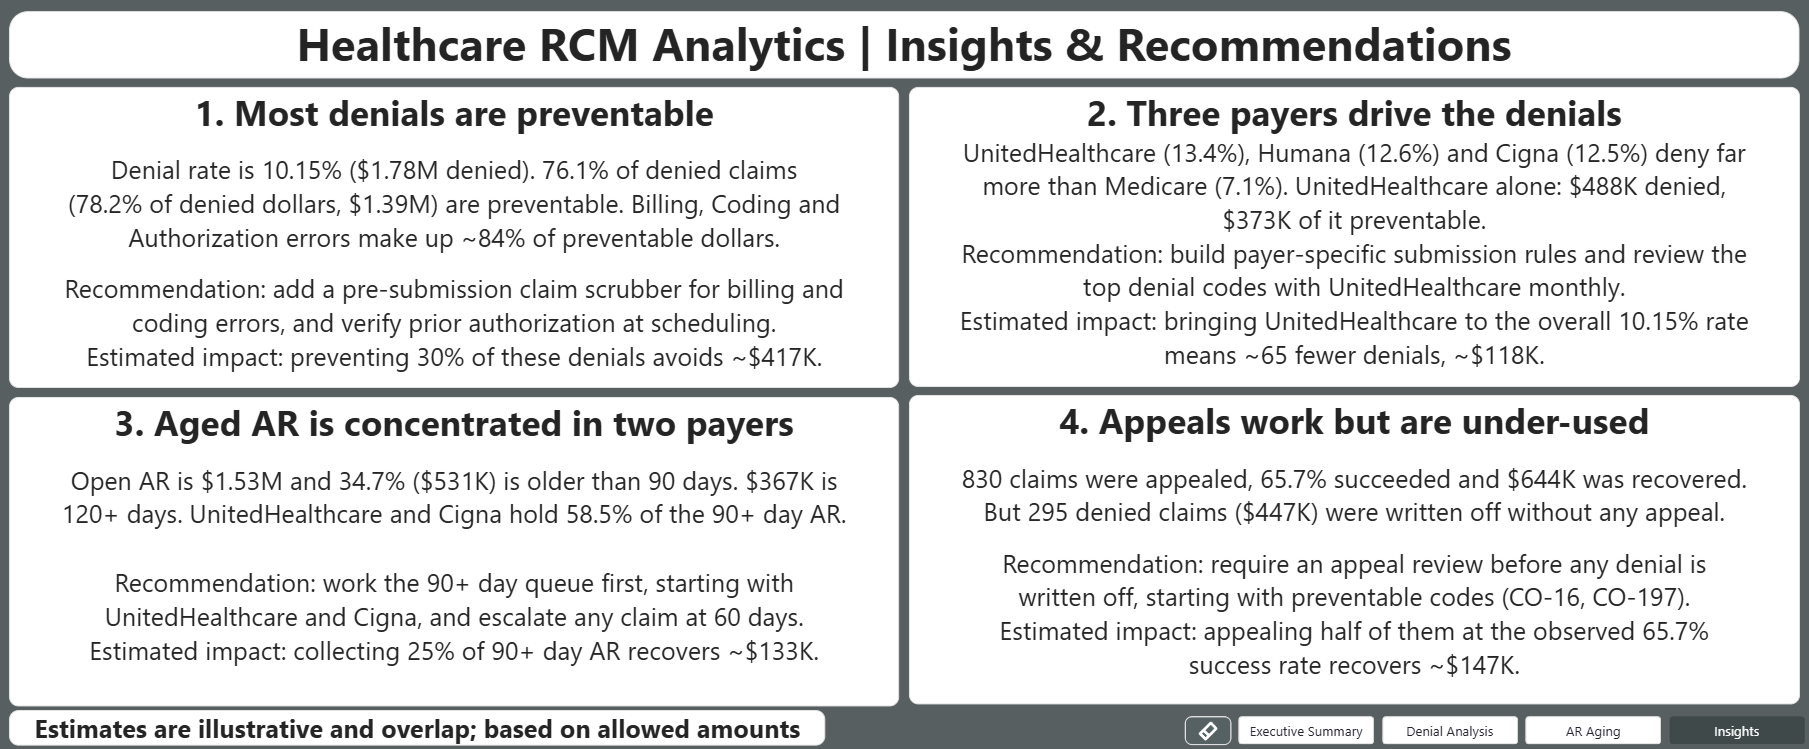

The page's visual inventory and layout, read from the dashboard file:
{"tool":"powerbi","page":{"name":"Insights","canvas":[1920,800],"ordinal":3},"visuals":[{"type":"cardVisual","fields":{"Data":["_measures.Total Charges"]},"box":[1639.1,896.6,279.5,156.5],"z":0},{"type":"textbox","box":[12.1,17.6,1895.6,71.4],"z":1000},{"type":"pageNavigator","box":[1313.3,763.7,601.9,30.9],"z":2000},{"type":"actionButton","box":[1257.3,763.5,49.9,30.9],"z":3000},{"type":"textbox","box":[12.2,97.7,942.7,318.8],"z":4000},{"type":"textbox","box":[964.3,97.7,943.2,317.8],"z":5000},{"type":"textbox","box":[12.2,425.4,942.7,327.2],"z":6000},{"type":"textbox","box":[964.3,423.9,943.2,327.7],"z":7000},{"type":"textbox","box":[12.1,757.1,864.8,37.4],"z":7001}]}

Visuals, with their boxes in screenshot pixels (x1, y1, x2, y2), scaled from the page's 1920x800 canvas onto the 1809x749 screenshot:
textbox: x1=11 y1=16 x2=1797 y2=83
pageNavigator: x1=1237 y1=715 x2=1804 y2=744
actionButton: x1=1185 y1=715 x2=1232 y2=744
textbox: x1=11 y1=91 x2=900 y2=390
textbox: x1=909 y1=91 x2=1797 y2=389
textbox: x1=11 y1=398 x2=900 y2=705
textbox: x1=909 y1=397 x2=1797 y2=704
textbox: x1=11 y1=709 x2=826 y2=744
